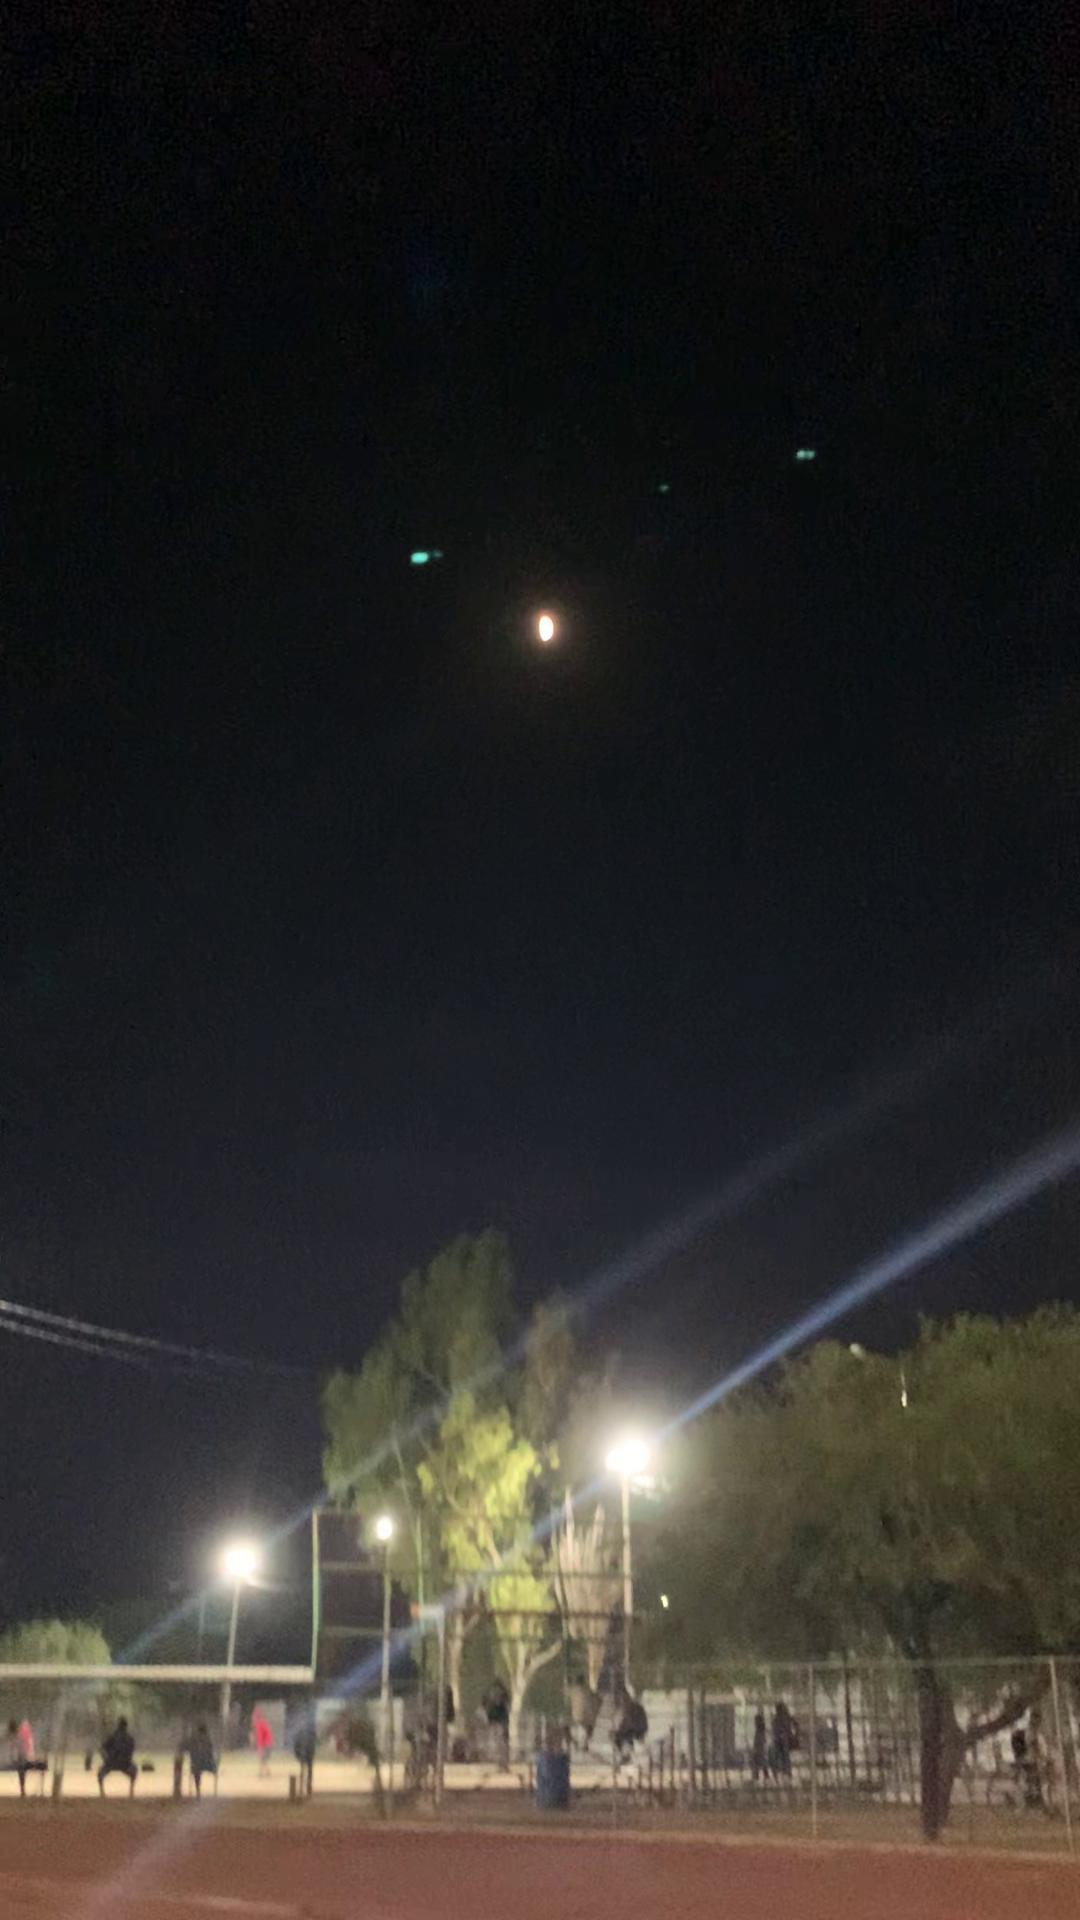moon: (516, 588, 584, 654)
